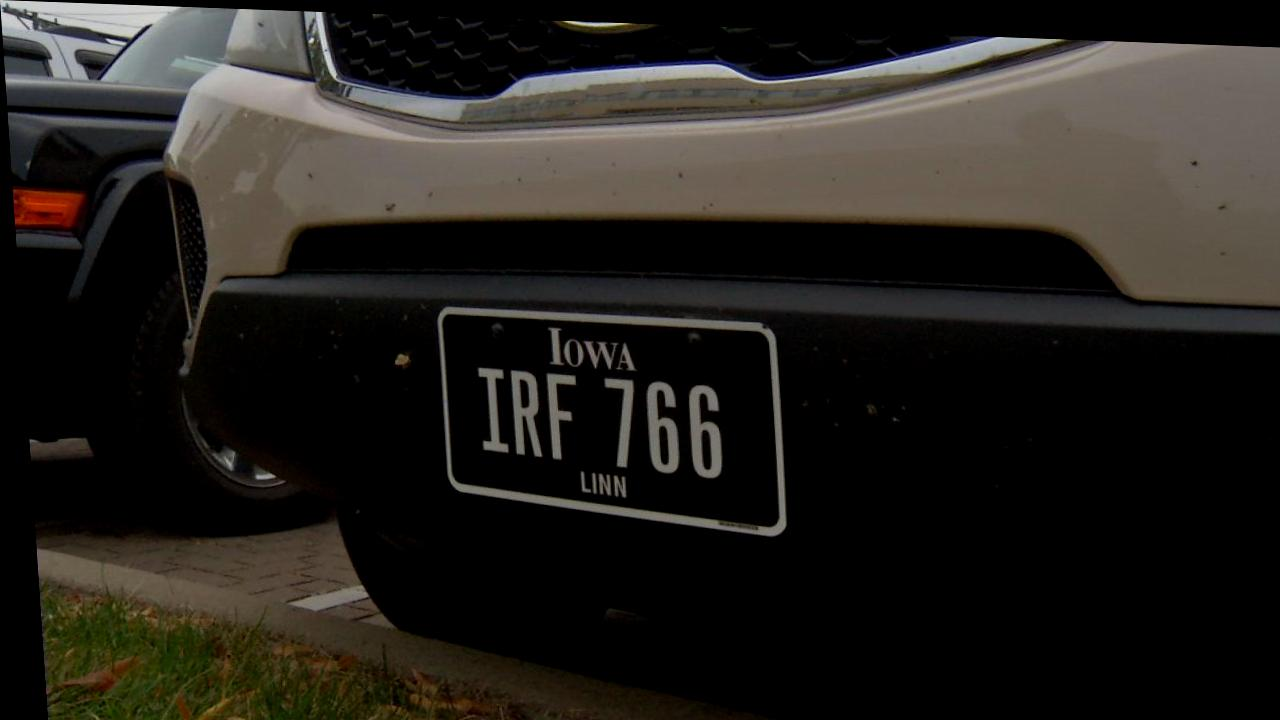License_Plate: (420, 289, 816, 566)
